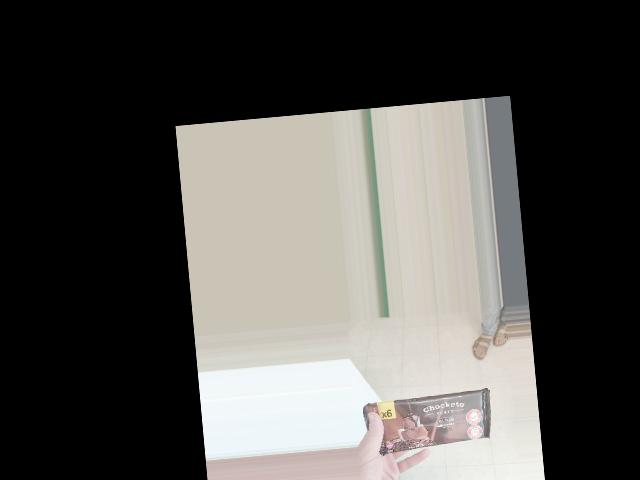chocolate: (358, 382, 495, 467)
